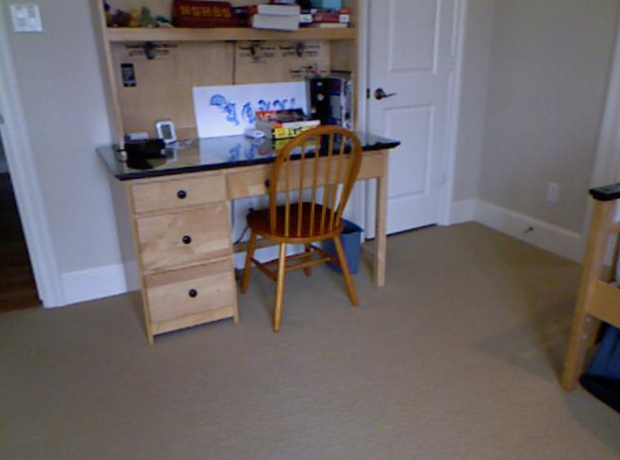cabinetDoor: (150, 220, 223, 258), (156, 279, 228, 311), (155, 179, 211, 203)
chair: (239, 125, 363, 309)
door: (372, 1, 437, 230)
table: (96, 124, 388, 286)
